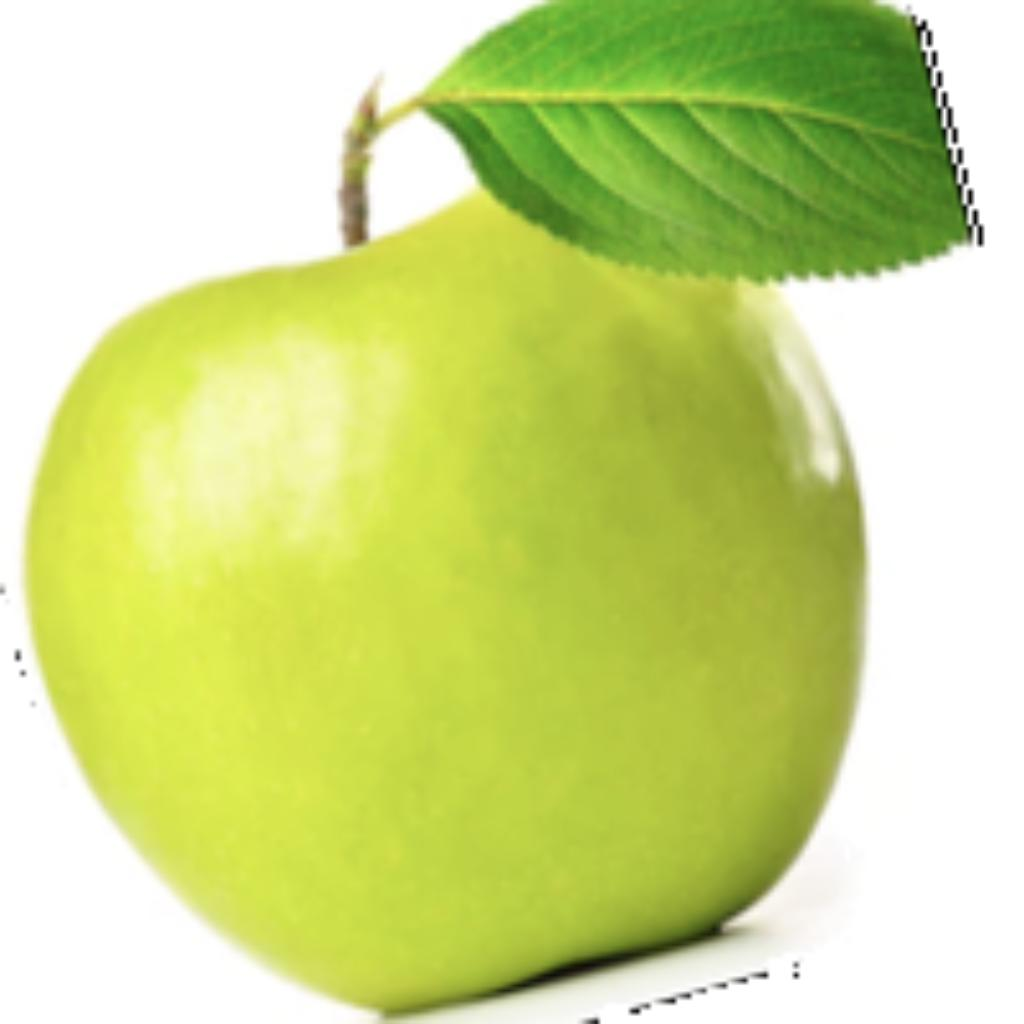apple: (0, 0, 983, 1019)
